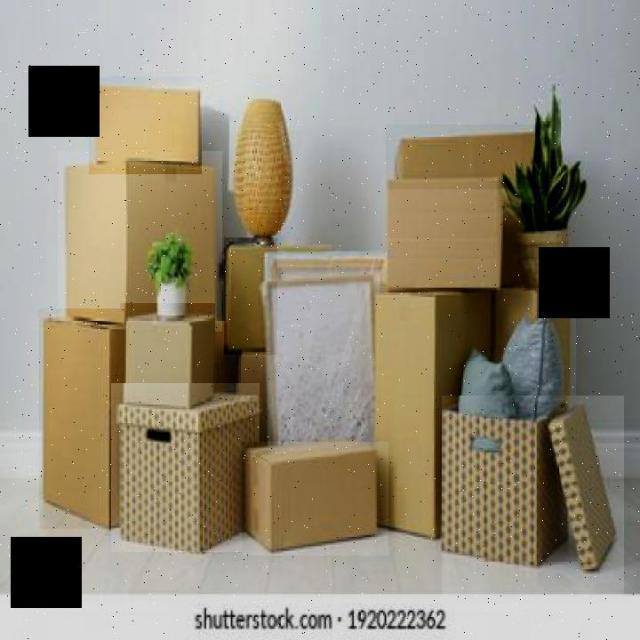box: (442, 396, 626, 598), (373, 292, 496, 556), (58, 151, 222, 332), (111, 383, 261, 552), (39, 308, 125, 529), (242, 442, 388, 556), (384, 178, 502, 292), (89, 76, 202, 175), (496, 288, 576, 424), (386, 124, 550, 190), (120, 303, 215, 415), (224, 237, 278, 355)
